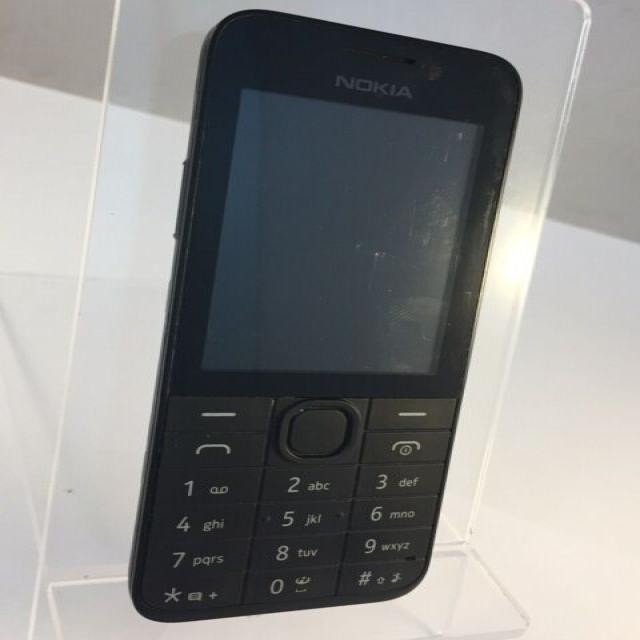mobile phone: (125, 7, 524, 623)
